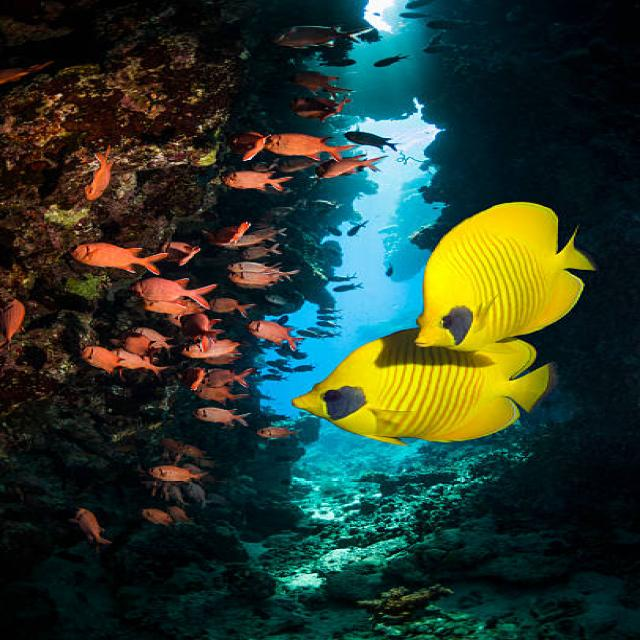ButterflyFish: (297, 329, 554, 439), (420, 205, 590, 348)
